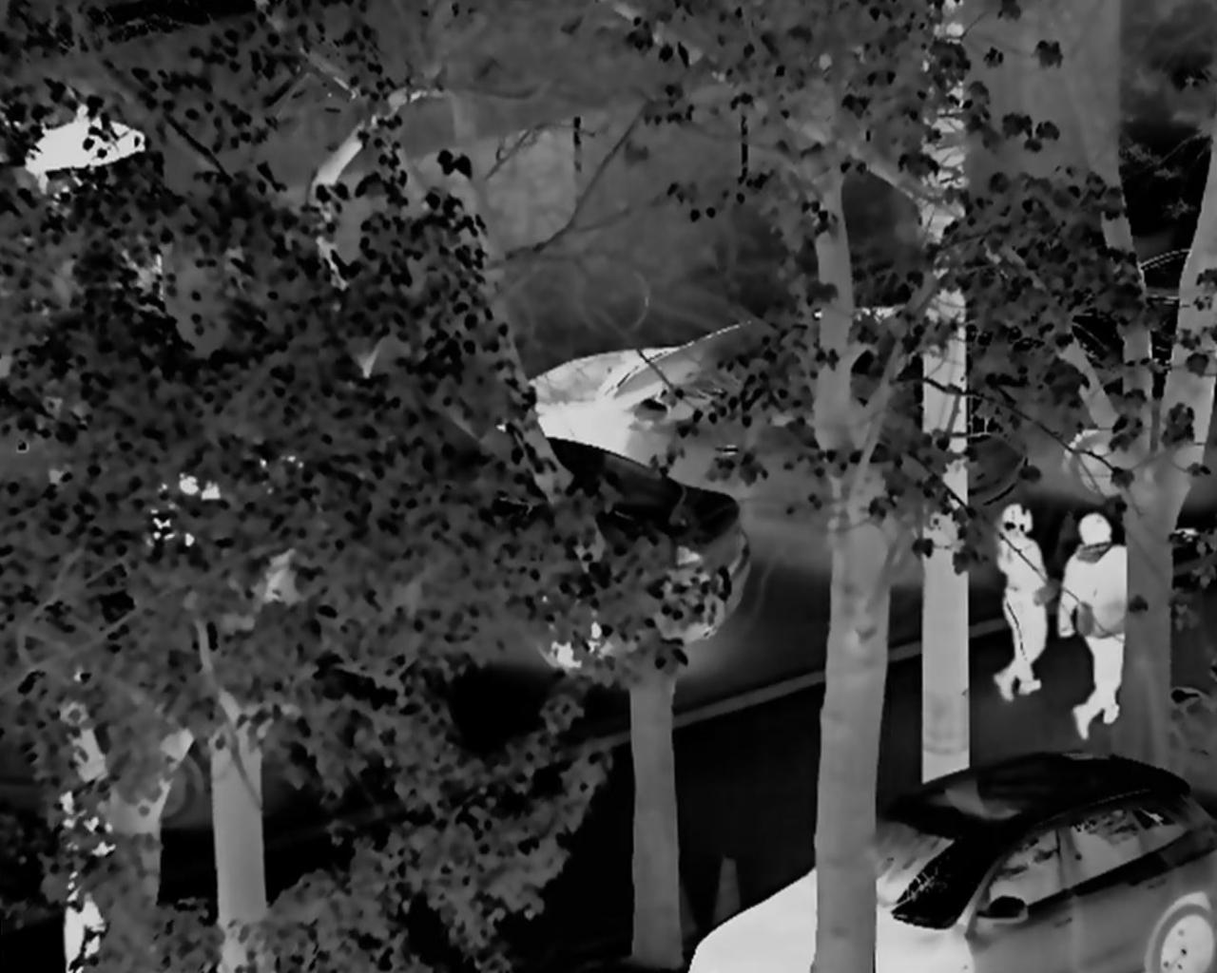person: (1054, 509, 1134, 738), (42, 786, 127, 973), (982, 497, 1053, 696)
